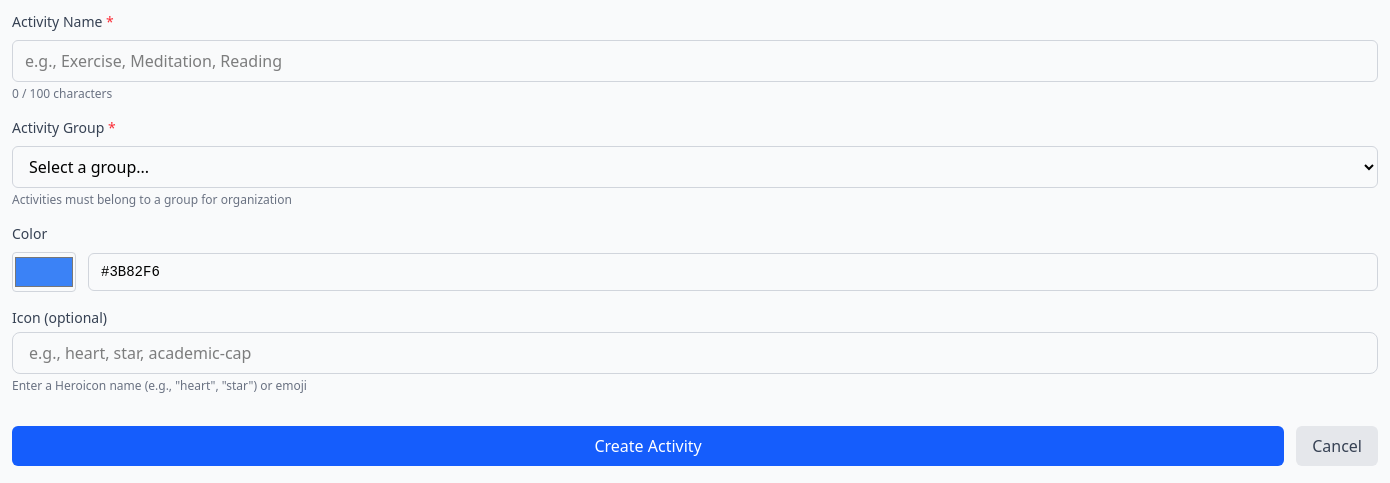
Test: ActivityForm › Form Submission › should show Creating... during submission
Type "Test" into the field with id "activity-name" at (695, 61), box [12,40,1378,82]
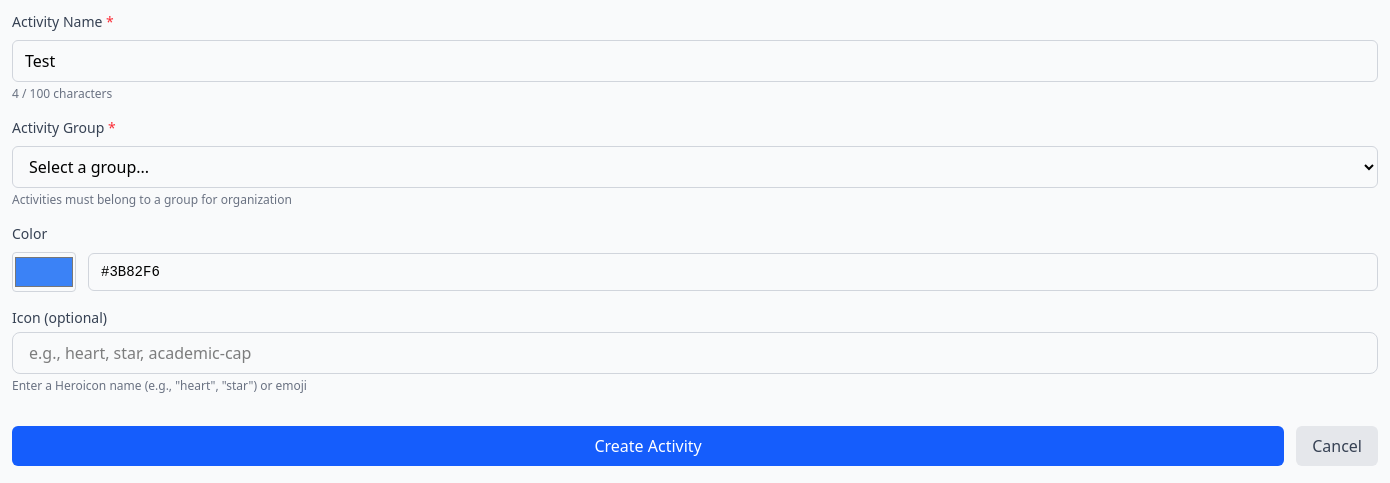
Select "Physical" in the dropdown with id "activity-group" at (695, 167), box [12,146,1378,188]
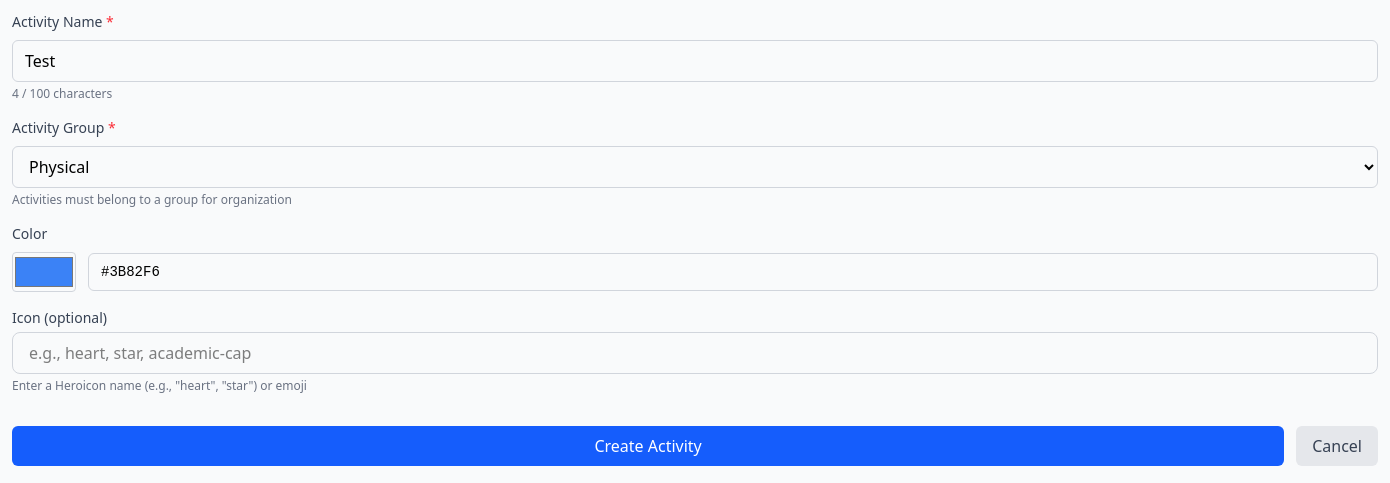
Submit the form
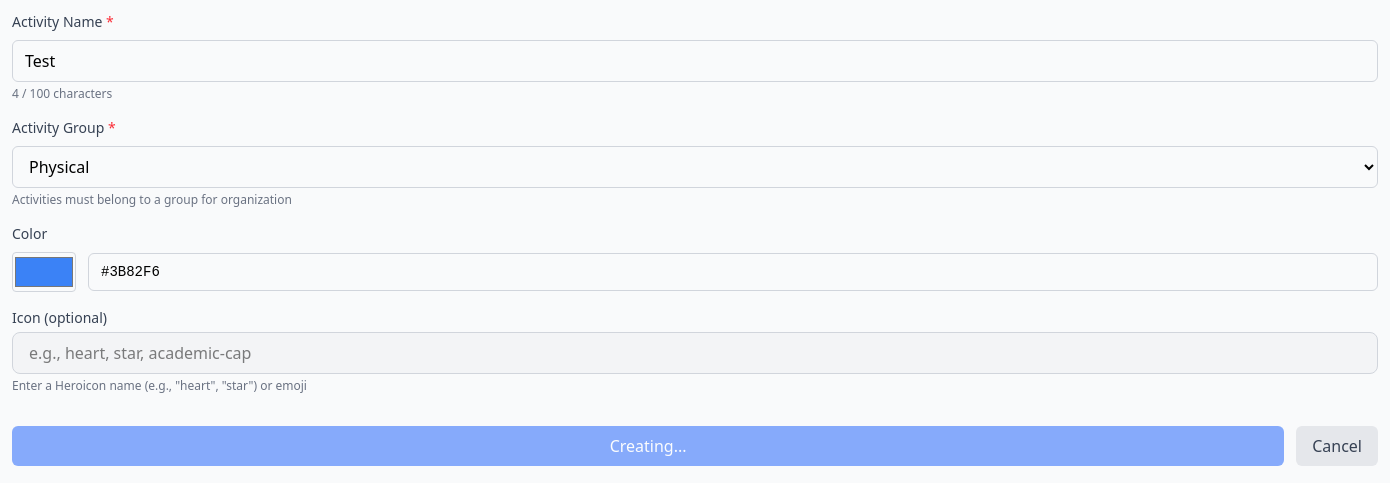
expect the submit button reads "Creating...": met, box [12,426,1284,466]
